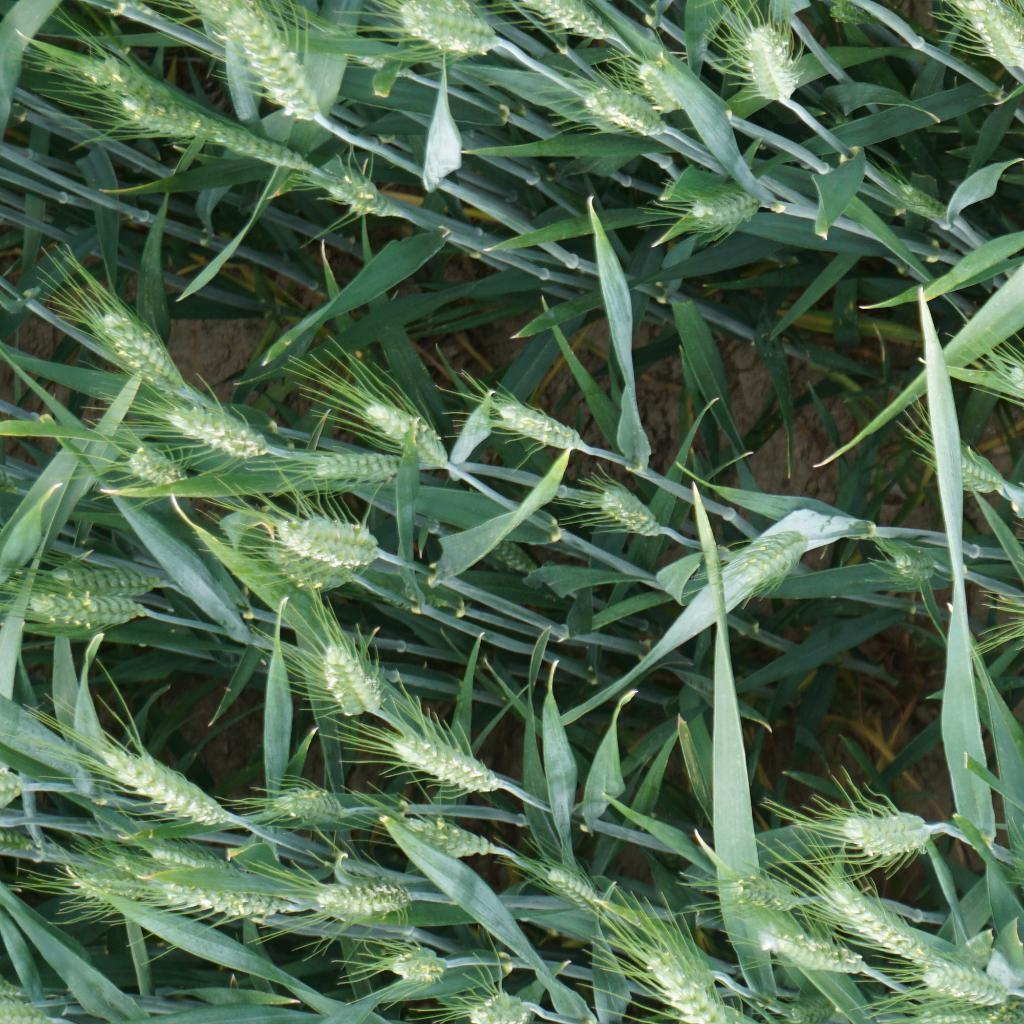0-0: (81, 729, 241, 832), (620, 932, 771, 1024), (216, 0, 326, 110), (346, 378, 459, 476), (248, 495, 397, 568), (715, 7, 817, 113), (817, 873, 930, 966), (83, 303, 197, 395), (377, 0, 526, 70), (382, 728, 508, 807), (301, 623, 393, 730), (478, 382, 594, 463), (387, 805, 513, 879), (152, 393, 280, 465), (146, 877, 293, 939), (832, 798, 950, 871), (292, 429, 422, 495), (758, 920, 875, 993), (20, 550, 188, 599), (182, 109, 305, 175), (652, 166, 766, 236), (311, 864, 424, 929), (703, 512, 804, 583), (110, 77, 217, 144), (584, 473, 674, 552), (921, 425, 1011, 501), (575, 75, 680, 138), (20, 590, 171, 632), (250, 539, 363, 595), (537, 850, 617, 929), (917, 955, 1024, 1012), (952, 0, 1024, 81), (128, 822, 231, 875), (878, 171, 961, 235), (305, 154, 390, 216), (525, 0, 625, 52), (707, 867, 805, 920), (635, 51, 710, 117), (871, 534, 956, 590), (111, 440, 192, 498), (69, 44, 153, 97), (262, 775, 347, 826), (377, 940, 453, 995), (476, 534, 542, 585), (72, 864, 136, 912), (467, 989, 533, 1023)
